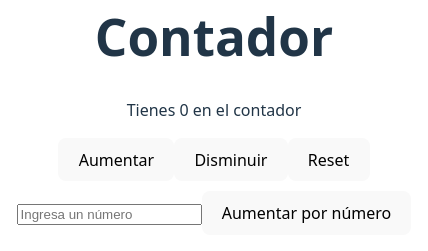
Test: Counter component › increments counter by number entered in input when "Aumentar por número" is clicked
Type "3" into the field with placeholder "Ingresa un número".
click(109, 214); type("3")  # box 16,204 -> 202,225
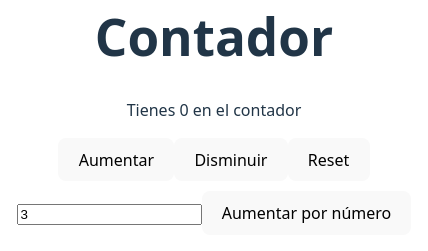
Click the button "Aumentar por número".
click(306, 213)  # box 202,192 -> 411,235
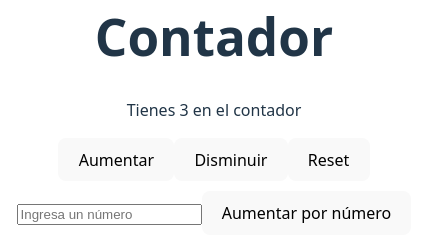
Result: the text "Tienes 3 en el contador" is shown at 127,99 -> 301,121
Result: the field with placeholder "Ingresa un número" is empty at 16,204 -> 202,225
